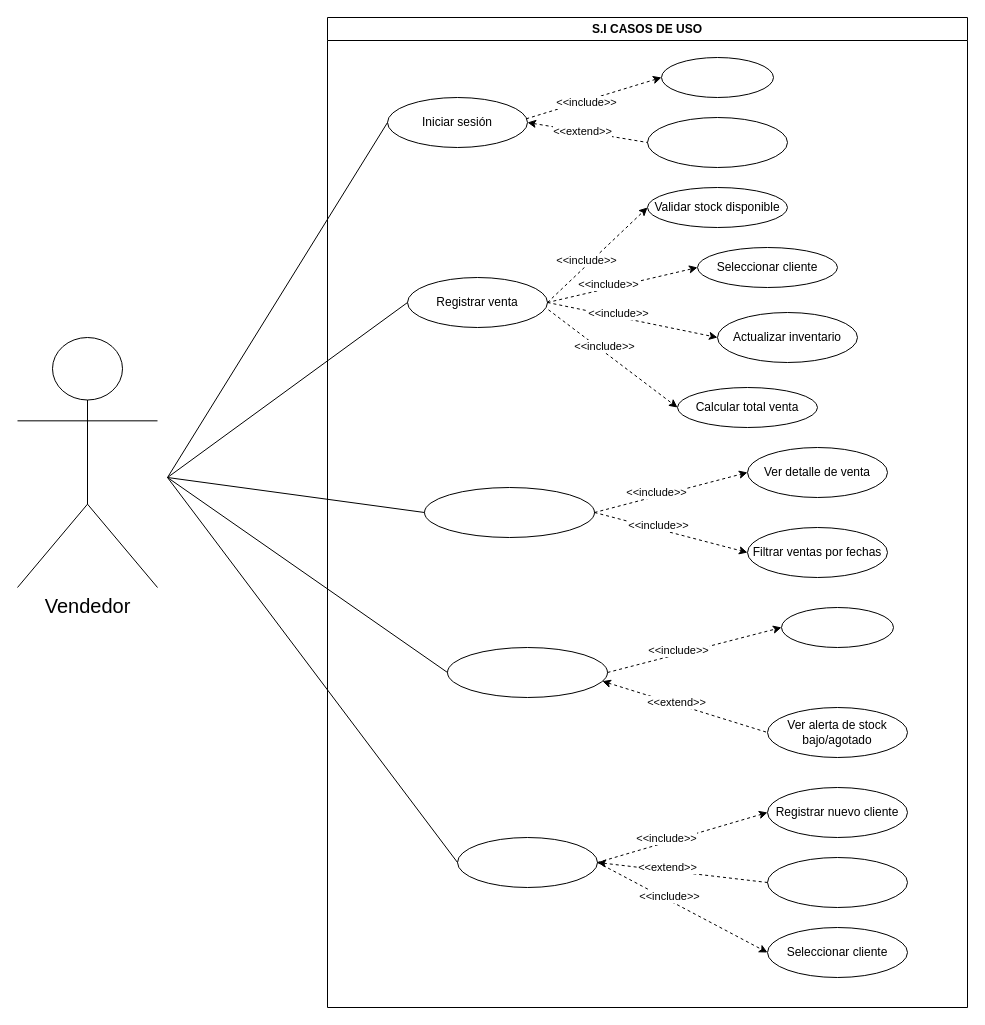
Some shapes in this 985 by 1025 pixel diagram are drawn without their labels. Each missing label, with the box of its shape:
Bloqueo por intentos fallidos: (646, 116, 788, 168)
Buscar cliente acivo: (766, 856, 908, 908)
Buscar producto: (780, 606, 894, 648)
Consultar historias de ventas: (424, 486, 594, 538)
Consultar inventario: (446, 646, 608, 698)
Gestionar clientes: (456, 836, 598, 888)
Validar credenciales: (660, 56, 774, 98)
